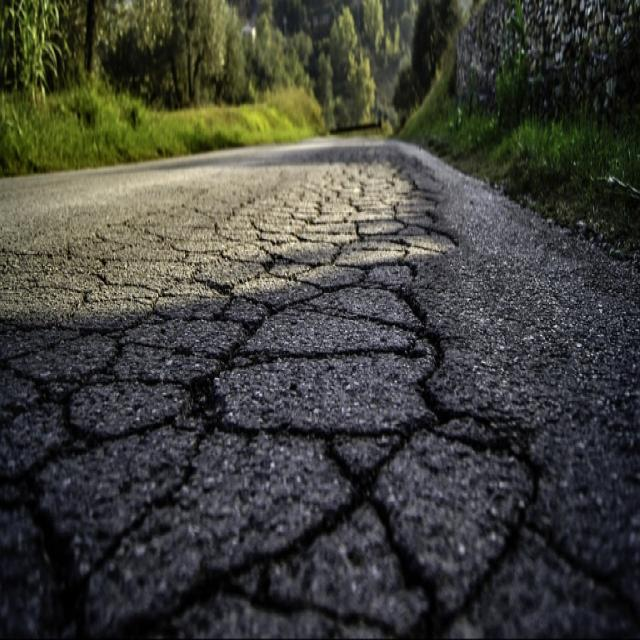Drain Hole: (106, 262, 640, 640)
